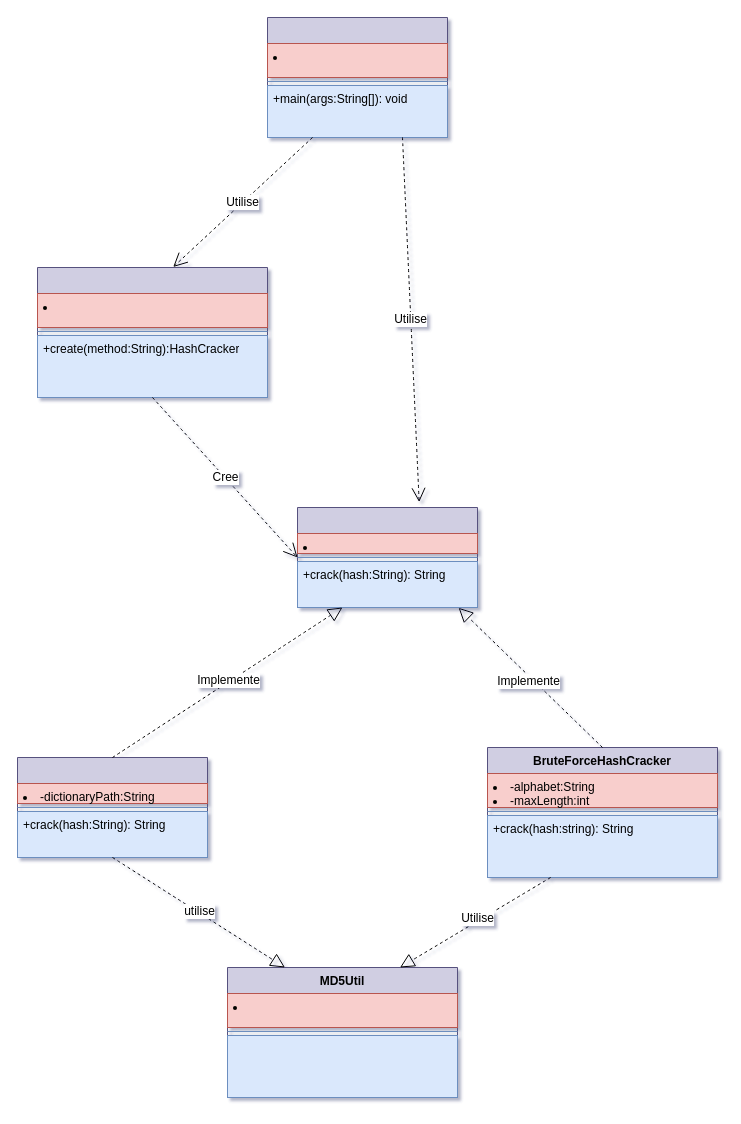
Image size: 741x1124. Some labels were removed from this diagram. The shapes that lost their labels are listed below. From the top down, each one's box as (x1, y1, x2, y2) in pixels, then its label:
(266, 16, 448, 138): PasswordCracker
(36, 266, 268, 398): HashCrackerFactory
(296, 506, 478, 608): <<interface>> HashCracker
(16, 756, 208, 858): DictionaryHashCracker
(226, 1034, 458, 1098): +hash(input:string) : String
